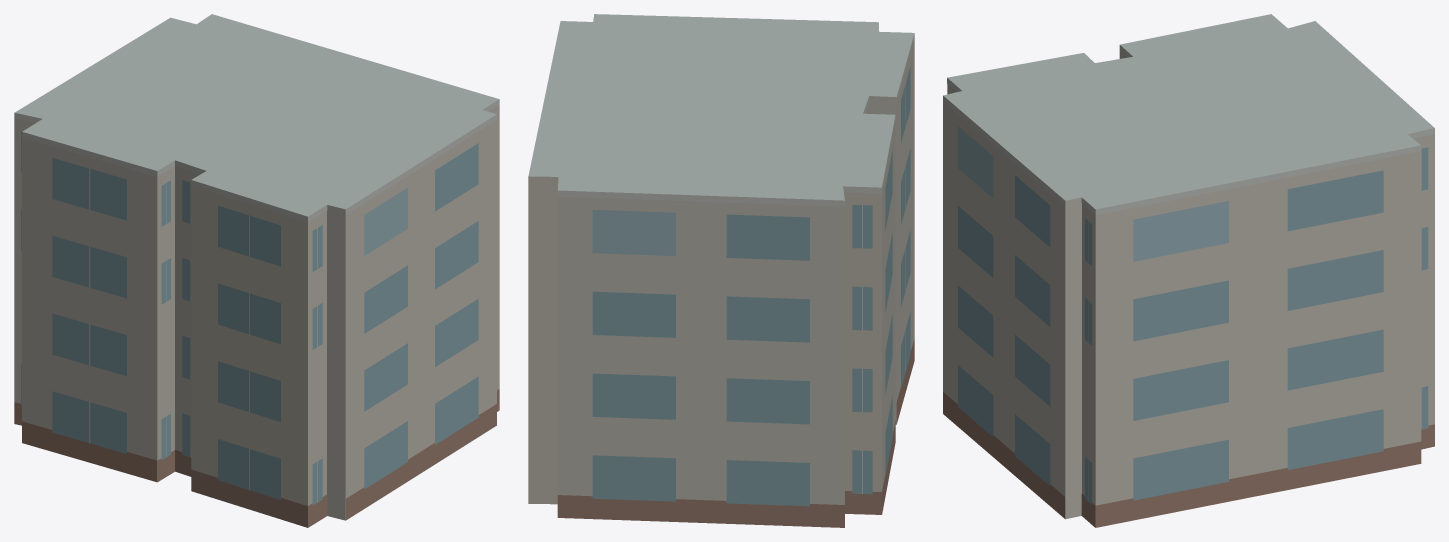
The model's file is survey-upis-32746670.glb.
3 views of the same model, side by side, from view 1: azimuth 30°, elevation 25°; view 2: azimuth 150°, elevation 25°; view 3: azimuth 270°, elevation 25° (orthographic). The views are drawn at different scales.
Visible parts, largest first — view 1: survey-upis-32746670.tmp; view 2: survey-upis-32746670.tmp; view 3: survey-upis-32746670.tmp.
Part boxes in pixels (x1,y1,x2,y2): survey-upis-32746670.tmp: [14, 14, 499, 527]; survey-upis-32746670.tmp: [528, 14, 914, 527]; survey-upis-32746670.tmp: [943, 14, 1434, 527].
Bounding box in the file's own units: 17.39 × 13.2 × 18.48.
